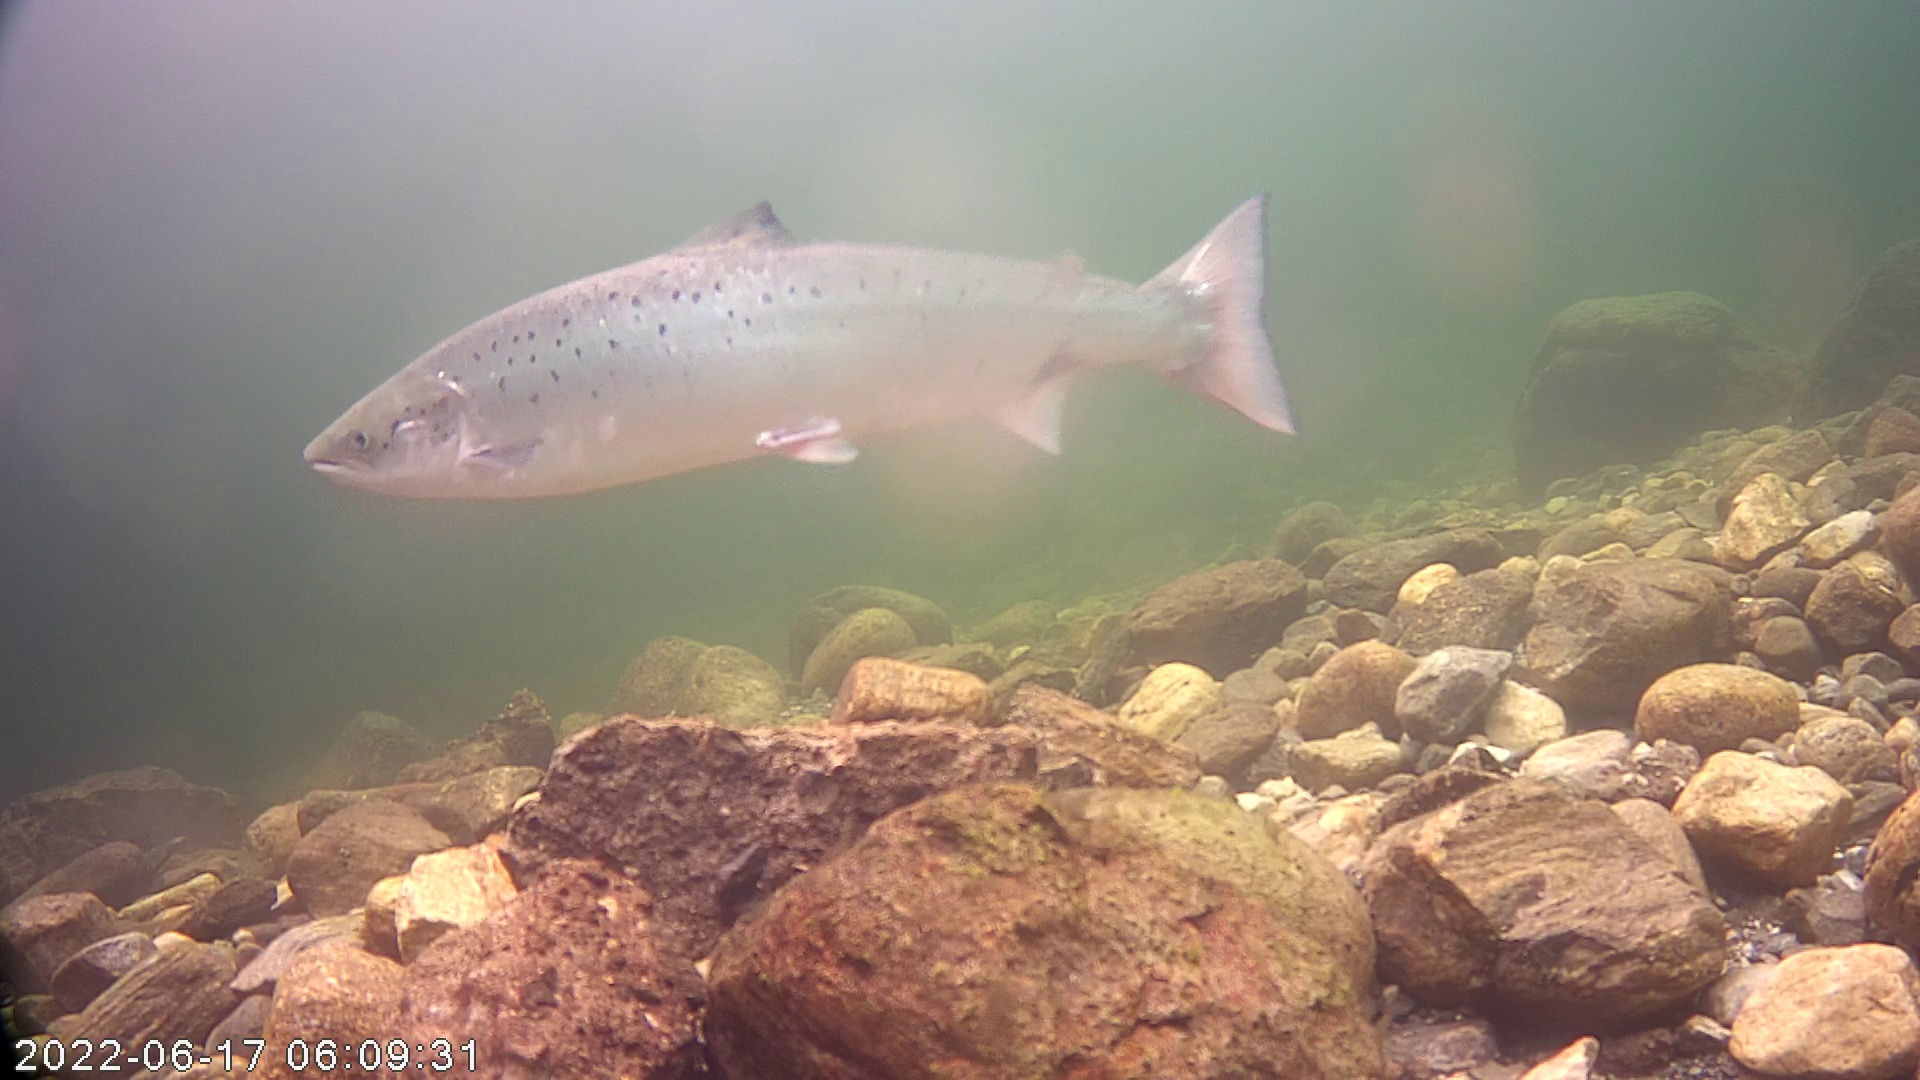salmon: (298, 186, 1302, 508)
